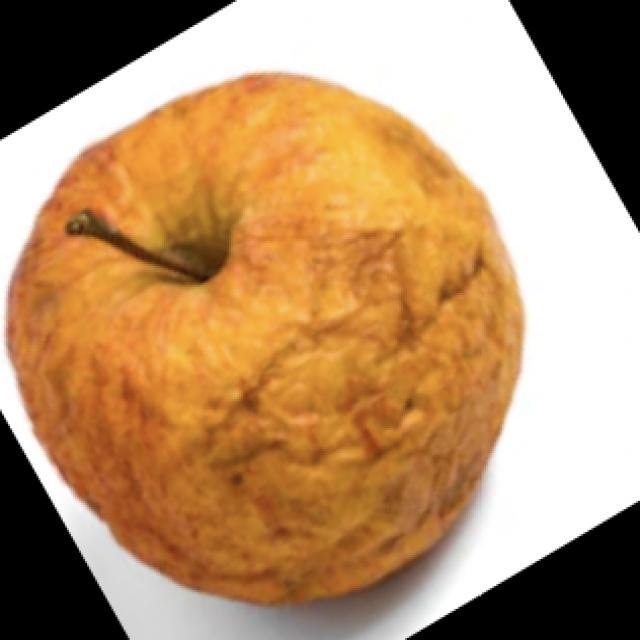Rotten: (20, 77, 517, 610)
